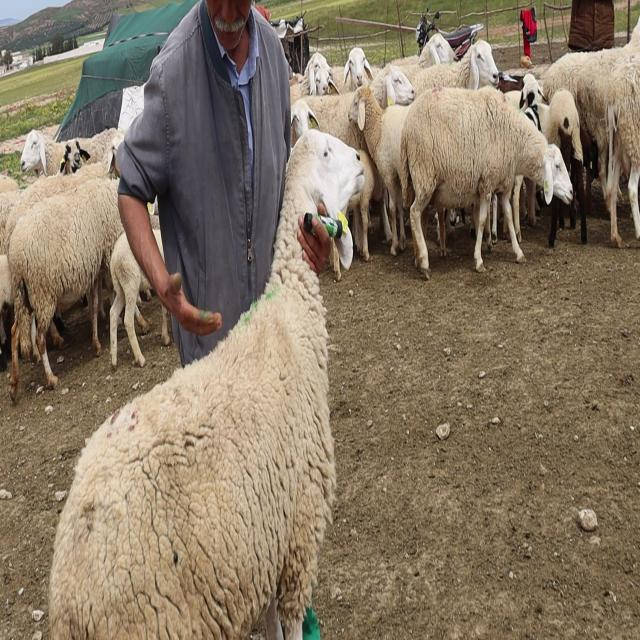Score_1: (49, 130, 365, 639)
